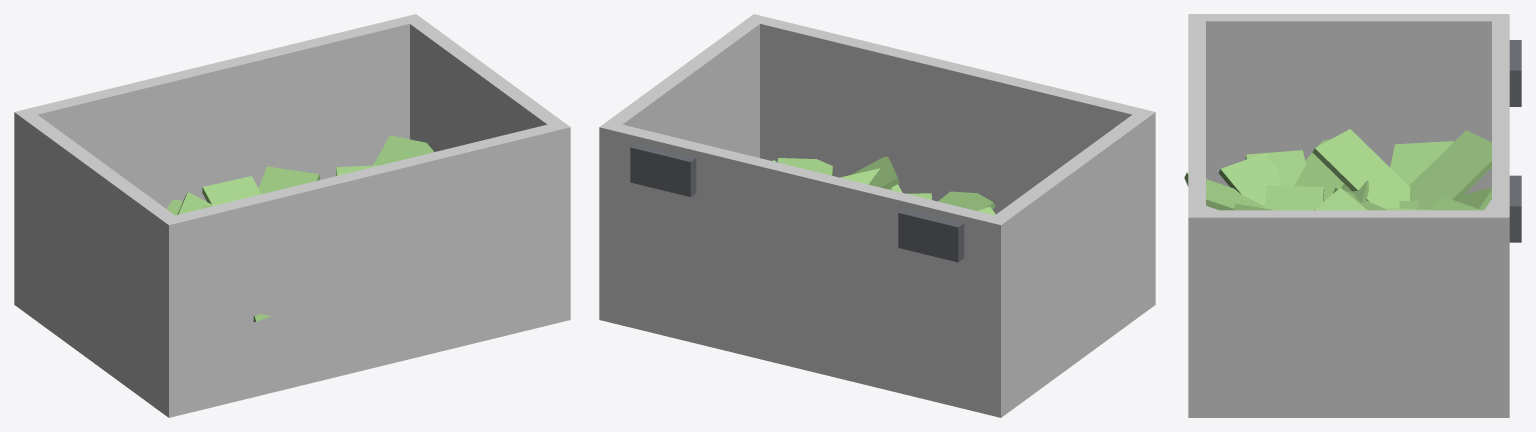
File: vertical-farm-and-hydroponics-tower-vertical-farm-and--9742a251__38357.glb
3 views of the same model, side by side, from view 1: azimuth 30°, elevation 25°; view 2: azimuth 150°, elevation 25°; view 3: azimuth 270°, elevation 25° (orthographic). The views are drawn at different scales.
Visible parts, largest first — view 1: vertical-farm-and-hydroponics-tower-harvest-crate; view 2: vertical-farm-and-hydroponics-tower-harvest-crate; view 3: vertical-farm-and-hydroponics-tower-harvest-crate.
Part boxes in pixels (x1,y1,x2,y2): vertical-farm-and-hydroponics-tower-harvest-crate: (14, 14, 570, 417); vertical-farm-and-hydroponics-tower-harvest-crate: (599, 14, 1155, 417); vertical-farm-and-hydroponics-tower-harvest-crate: (1184, 14, 1521, 417).
Size of the model in its own units: 0.6 by 0.275 by 0.4199.
